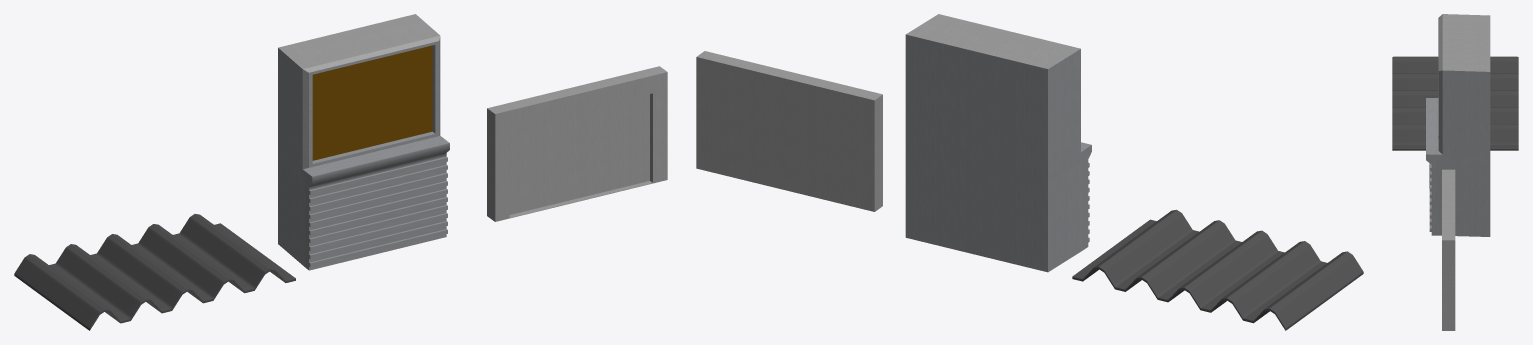
The model's file is cafeHdbWalls.fbx.
3 renders of one model, left to right at view 1: azimuth 30°, elevation 25°; view 2: azimuth 150°, elevation 25°; view 3: azimuth 270°, elevation 25°, orthographic. The views are drawn at different scales.
Visible parts, largest first — view 1: pCube60, pCube62, roofTiles; view 2: pCube60, pCube62, roofTiles; view 3: pCube60, roofTiles, pCube62.
Part boxes in pixels (x1,y1,x2,y2): pCube60: [278, 14, 449, 270]; pCube62: [487, 66, 667, 221]; roofTiles: [14, 214, 295, 330]; pCube60: [905, 14, 1091, 272]; pCube62: [696, 51, 882, 211]; roofTiles: [1072, 209, 1363, 330]; pCube60: [1426, 14, 1490, 236]; roofTiles: [1392, 56, 1518, 150]; pCube62: [1442, 169, 1455, 330].
Bounding box in the file's own units: 11.09 × 3.48 × 2.38.
